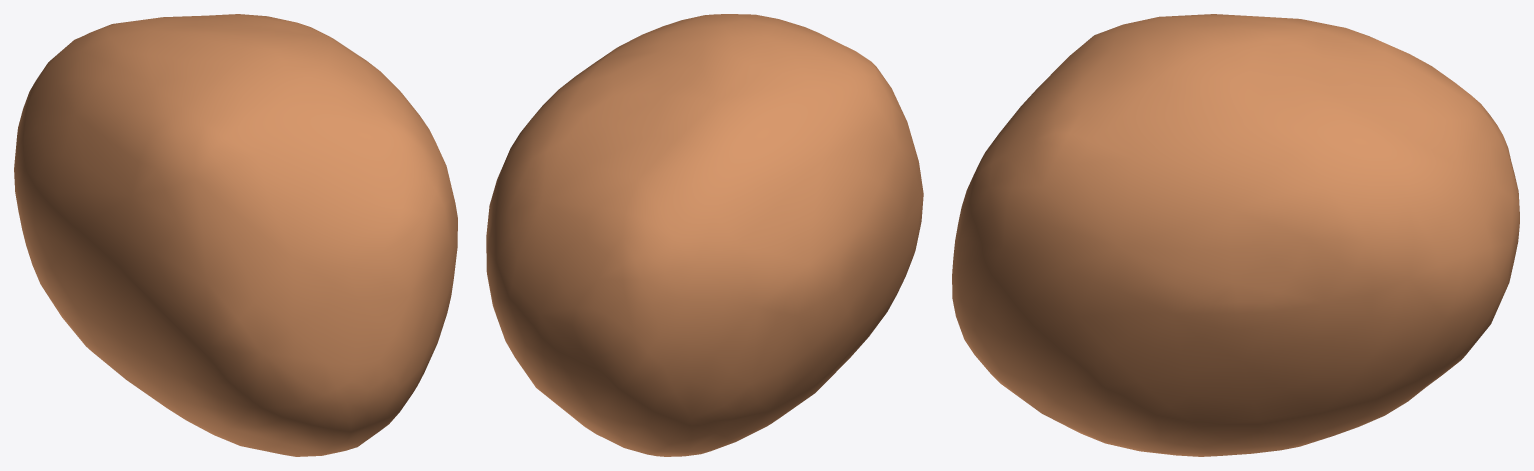
The picture shows the model from 3 angles, left to right: view 1: azimuth 30°, elevation 25°; view 2: azimuth 150°, elevation 25°; view 3: azimuth 270°, elevation 25°; orthographic projection. The views are drawn at different scales.
Visible parts, largest first — view 1: 左侧睾丸; view 2: 左侧睾丸; view 3: 左侧睾丸.
Part boxes in pixels (x1=…): 左侧睾丸: x1=14, y1=14, x2=457, y2=456; 左侧睾丸: x1=486, y1=14, x2=923, y2=456; 左侧睾丸: x1=952, y1=14, x2=1519, y2=456.
Size of the model in its own units: 0.0311 by 0.0335 by 0.0434.
